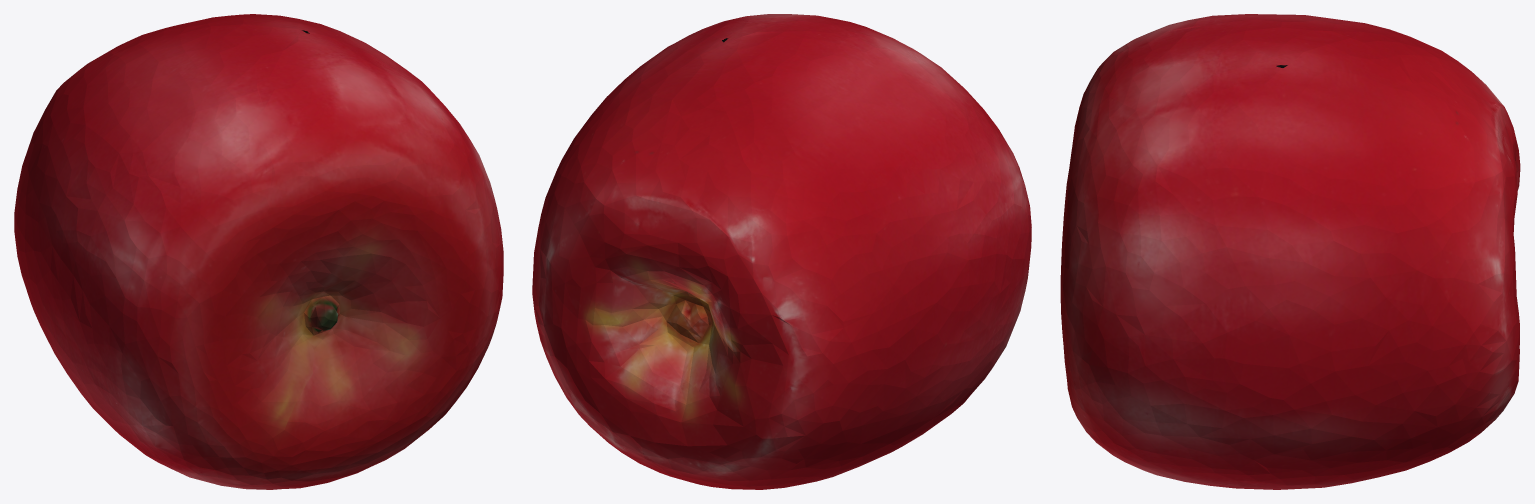
3 renders of one model, left to right at view 1: azimuth 30°, elevation 25°; view 2: azimuth 150°, elevation 25°; view 3: azimuth 270°, elevation 25°, orthographic. The views are drawn at different scales.
Parts seen in each view (by area): view 1: textured.026-Mesh; view 2: textured.026-Mesh; view 3: textured.026-Mesh.
Part boxes in pixels (<box>): textured.026-Mesh: <box>14,14,503,489</box>; textured.026-Mesh: <box>532,14,1031,489</box>; textured.026-Mesh: <box>1060,14,1520,489</box>.
Size of the model in its own units: 0.0754 by 0.0748 by 0.0719.
1 material, 1 textured.
